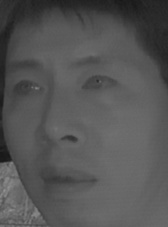eye: (78, 71, 121, 94), (10, 77, 48, 100)
mouth: (38, 158, 101, 199)
